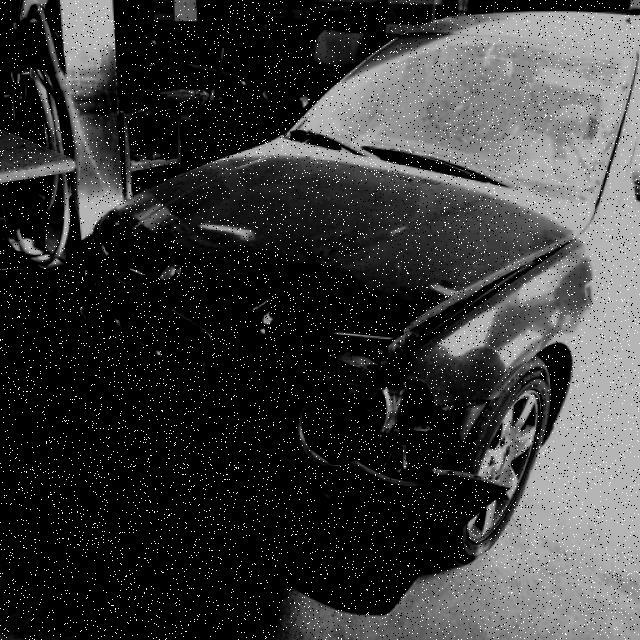car damage: (138, 253, 555, 599)
